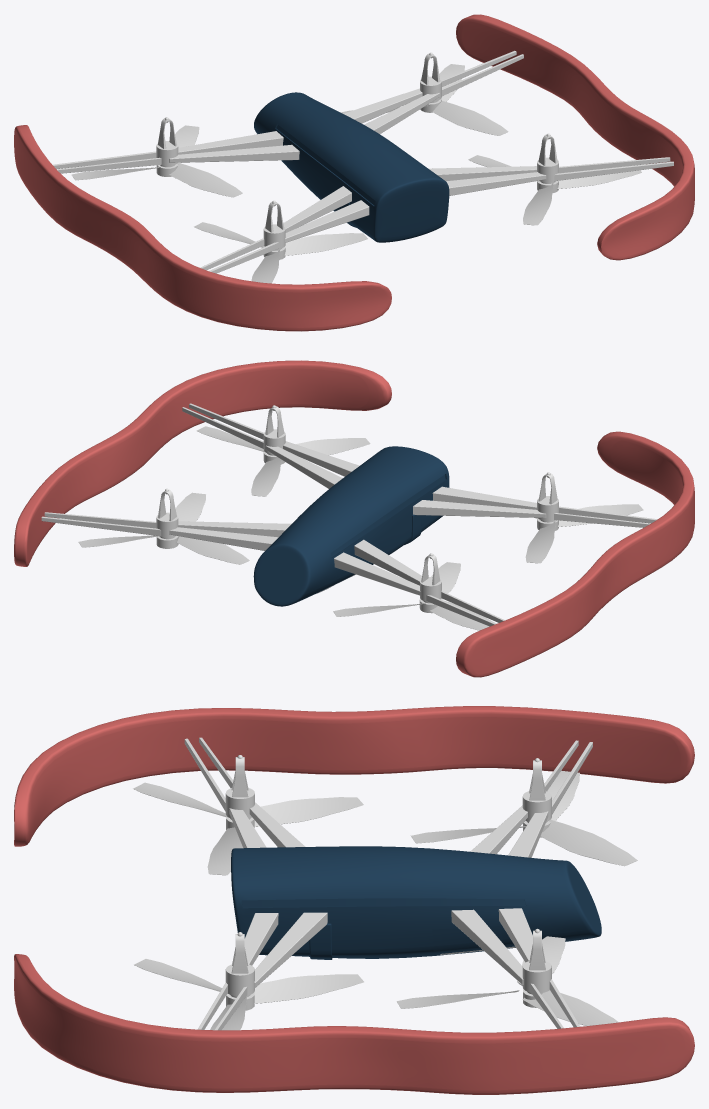
File: parrot_bebop_droneAnimated.fbx
3 renders of one model, top to bottom at view 1: azimuth 30°, elevation 25°; view 2: azimuth 150°, elevation 25°; view 3: azimuth 270°, elevation 25°, orthographic. The views are drawn at different scales.
Parts seen in each view (by area): view 1: SideArchs, MainBody, Cubo_5, Cubo_1, Cubo_1_5, Cubo_2, Cubo_1_2, Cubo_7, Cubo_2_2.001, Cubo_3_3.001, Cubo_1_6, Cubo_4 (+9 smaller); view 2: SideArchs, MainBody, Cubo_2, Cubo_1_5, Cubo_5, Cubo_1, Cubo_1_6, Cubo_4, Cubo_7, Cubo_1_2, Cubo_2_3.001, Cubo_1_4 (+12 smaller); view 3: SideArchs, MainBody, Cubo_5, Cubo_2, Cubo_3_2, Cubo_1_5, Cubo_1_8, Cubo_1, Cubo_3_2.001, Cubo_1_8.001, Cilindro, Cilindro_3 (+14 smaller).
Part boxes in pixels (bbox=[...]): SideArchs: bbox=[14, 14, 694, 331]; MainBody: bbox=[254, 92, 449, 242]; Cubo_5: bbox=[169, 93, 439, 162]; Cubo_1: bbox=[285, 172, 546, 242]; Cubo_1_5: bbox=[178, 88, 422, 154]; Cubo_2: bbox=[283, 166, 536, 232]; Cubo_1_2: bbox=[209, 161, 673, 273]; Cubo_7: bbox=[57, 54, 523, 173]; Cubo_2_2.001: bbox=[284, 233, 367, 255]; Cubo_3_3.001: bbox=[432, 101, 508, 135]; Cubo_1_6: bbox=[52, 50, 516, 168]; Cubo_4: bbox=[200, 157, 670, 270]; SideArchs: bbox=[14, 360, 694, 677]; MainBody: bbox=[253, 446, 449, 606]; Cubo_2: bbox=[265, 445, 546, 517]; Cubo_1_5: bbox=[169, 527, 420, 595]; Cubo_5: bbox=[178, 521, 421, 585]; Cubo_1: bbox=[283, 441, 536, 509]; Cubo_1_6: bbox=[41, 516, 496, 626]; Cubo_4: bbox=[182, 407, 650, 527]; Cubo_7: bbox=[44, 512, 504, 622]; Cubo_1_2: bbox=[189, 403, 657, 523]; Cubo_2_3.001: bbox=[177, 536, 249, 564]; Cubo_1_4: bbox=[296, 438, 370, 458]; SideArchs: bbox=[14, 706, 694, 1094]; MainBody: bbox=[231, 846, 601, 959]; Cubo_5: bbox=[451, 805, 527, 984]; Cubo_2: bbox=[249, 802, 327, 988]; Cubo_3_2: bbox=[254, 974, 363, 1003]; Cubo_1_5: bbox=[498, 811, 548, 962]; Cubo_1_8: bbox=[540, 819, 637, 866]; Cubo_1: bbox=[229, 808, 278, 965]; Cubo_3_2.001: bbox=[254, 797, 363, 826]; Cubo_1_8.001: bbox=[522, 990, 618, 1025]; Cilindro: bbox=[225, 788, 254, 996]; Cilindro_3: bbox=[522, 791, 551, 992].
Bounding box in the file's own units: 30918 × 4748 × 26707.
